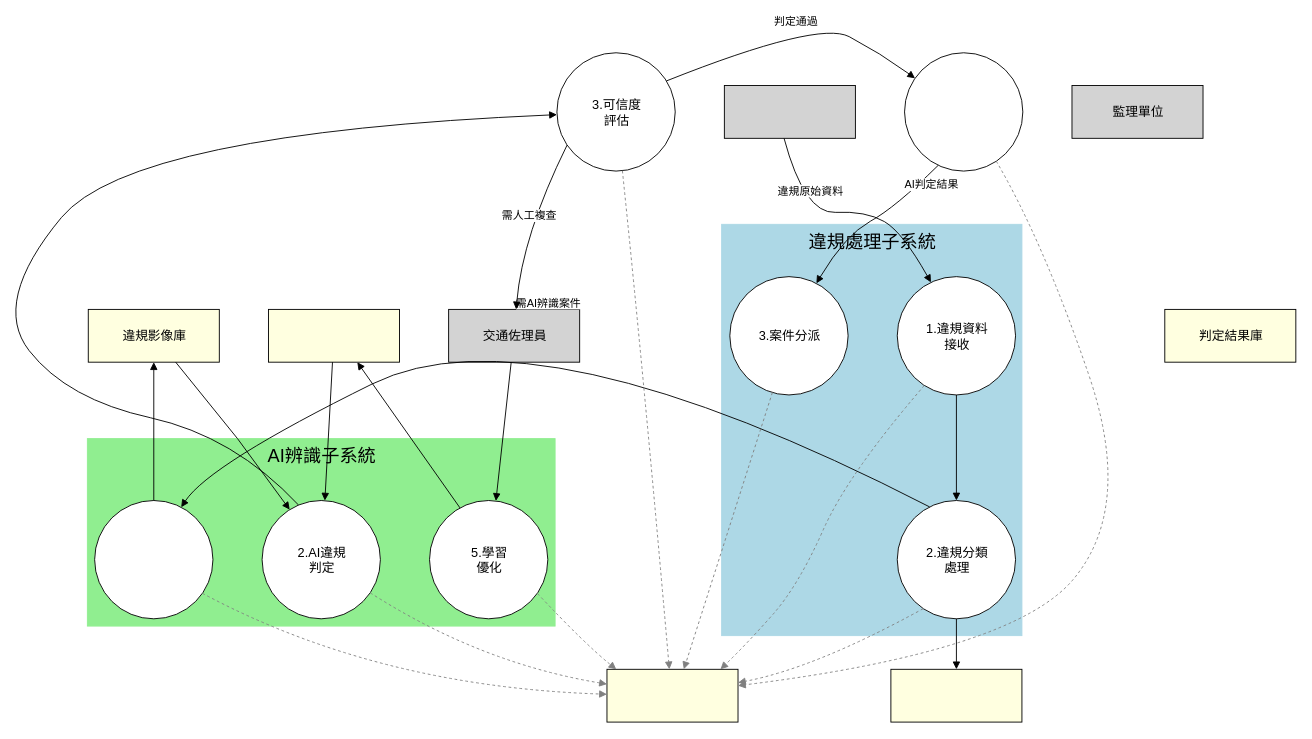
The diagram is 1312 pixels wide and 739 high, and some of its shapes have lost their labels. The centre of each missing label's shape, as x and y in pixels:
1.AI資料 前處理: [153,559]
4.報告 生成: [963,111]
學習模型庫: [333,335]
智慧燈桿 (測照設備): [789,111]
系統日誌: [672,695]
違規案件庫: [956,695]
